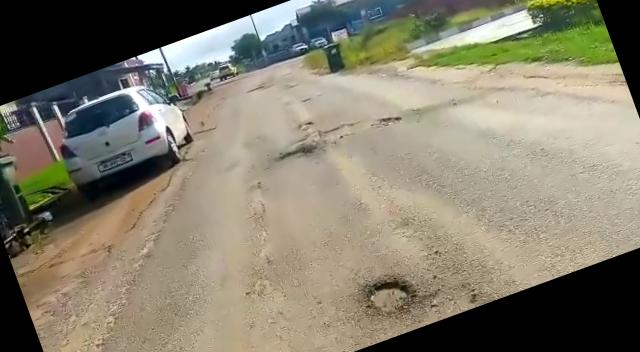pothole: (315, 100, 404, 152), (358, 267, 424, 323), (274, 138, 318, 164)
